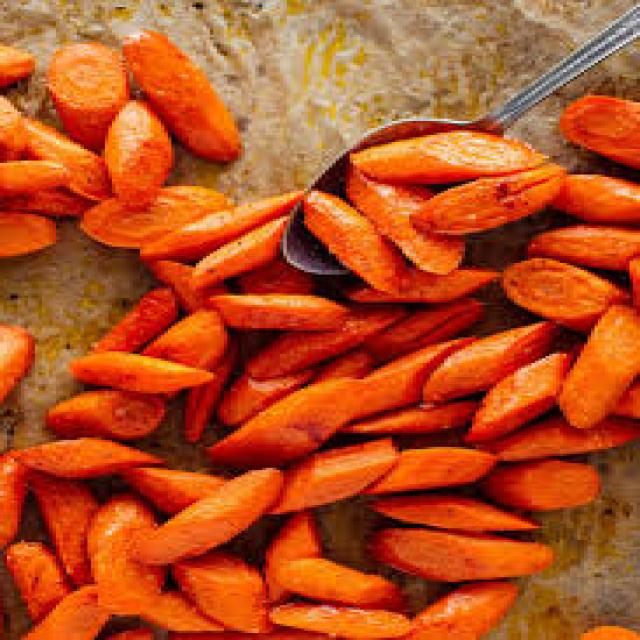Carrot: (109, 468, 294, 559), (113, 34, 248, 154), (189, 380, 408, 450), (26, 32, 146, 154), (69, 188, 284, 253), (57, 344, 245, 417), (402, 168, 560, 250), (343, 128, 550, 186), (336, 185, 468, 275), (376, 527, 565, 585), (303, 187, 396, 290), (185, 203, 295, 289), (467, 348, 575, 434), (490, 258, 617, 326), (274, 450, 402, 513), (198, 292, 362, 338), (92, 118, 185, 198)
